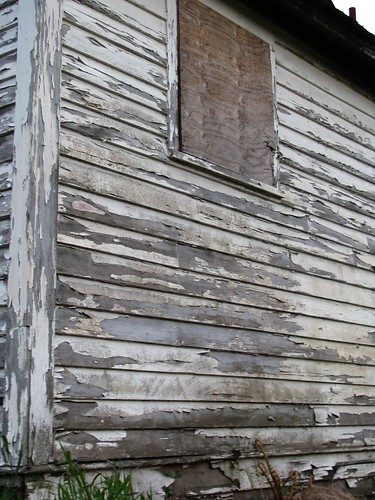building: (8, 1, 375, 493)
